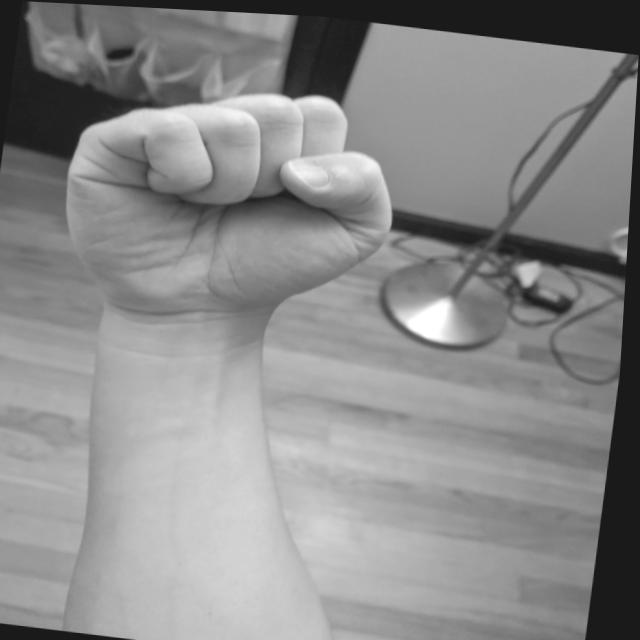S: (41, 55, 417, 342)
